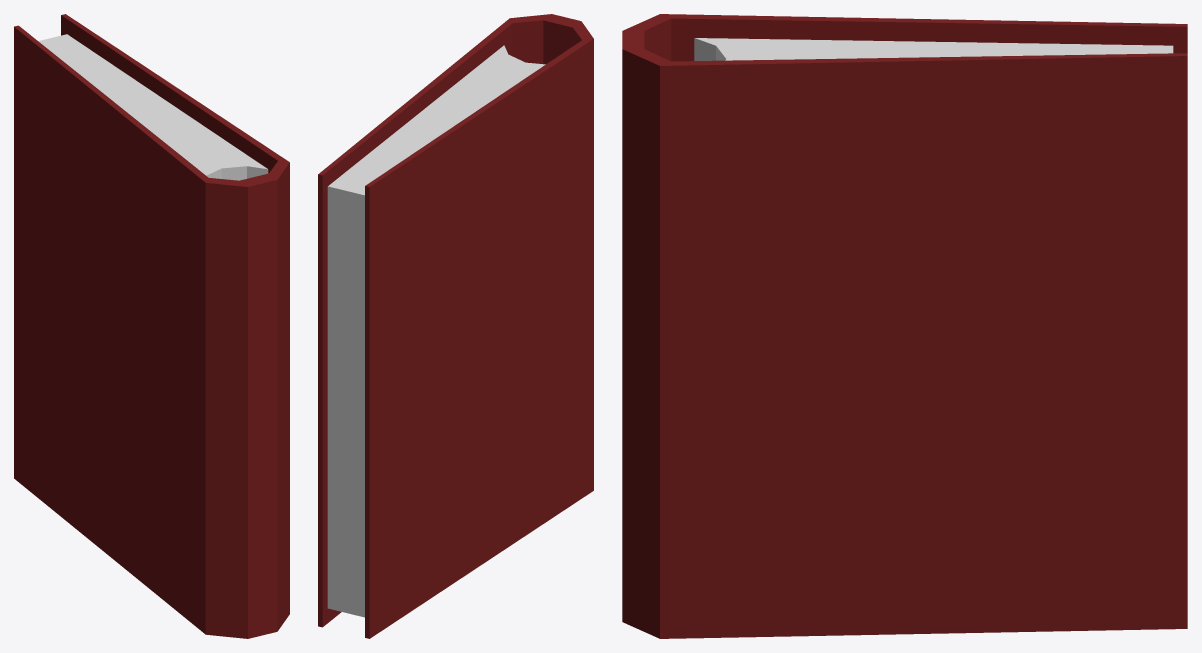
File: Book_Folder.obj
3 renders of one model, left to right at view 1: azimuth 30°, elevation 25°; view 2: azimuth 150°, elevation 25°; view 3: azimuth 270°, elevation 25°, orthographic. The views are drawn at different scales.
Visible parts, largest first — view 1: Book_Folder; view 2: Book_Folder; view 3: Book_Folder.
Part boxes in pixels (x1=…): Book_Folder: x1=14, y1=14, x2=289, y2=638; Book_Folder: x1=318, y1=14, x2=593, y2=638; Book_Folder: x1=622, y1=14, x2=1187, y2=638.
Size of the model in its own units: 0.0693 by 0.3556 by 0.3179.
